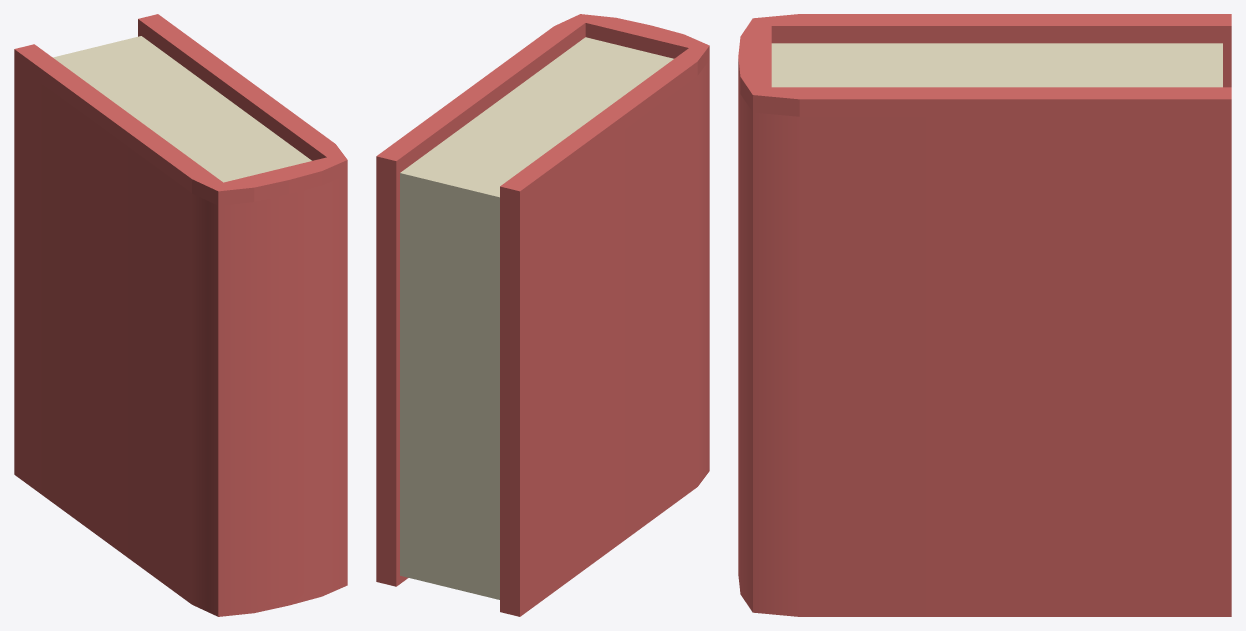
Rendered from atoll_Book_03.fbx.
3 views of the same model, side by side, from view 1: azimuth 30°, elevation 25°; view 2: azimuth 150°, elevation 25°; view 3: azimuth 270°, elevation 25° (orthographic). The views are drawn at different scales.
Parts seen in each view (by area): view 1: Book_Red; view 2: Book_Red; view 3: Book_Red.
Part boxes in pixels (x1,y1,x2,y2): Book_Red: [14, 14, 347, 616]; Book_Red: [376, 14, 709, 616]; Book_Red: [738, 14, 1231, 616].
Bounding box in the file's own units: 5.44 × 15.38 × 13.29.
